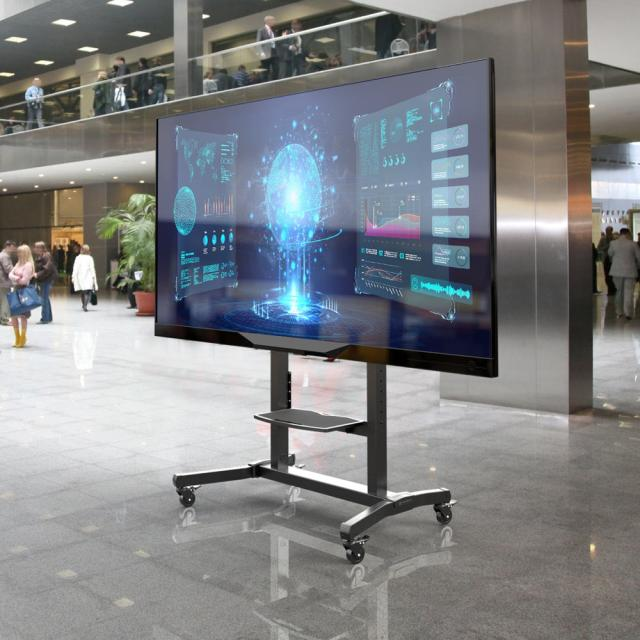electronics: (156, 60, 495, 563), (156, 60, 495, 376), (172, 127, 237, 298)
